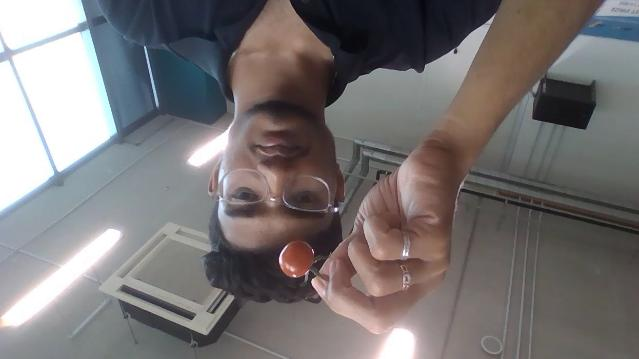Fully Grown: (277, 239, 314, 279)
